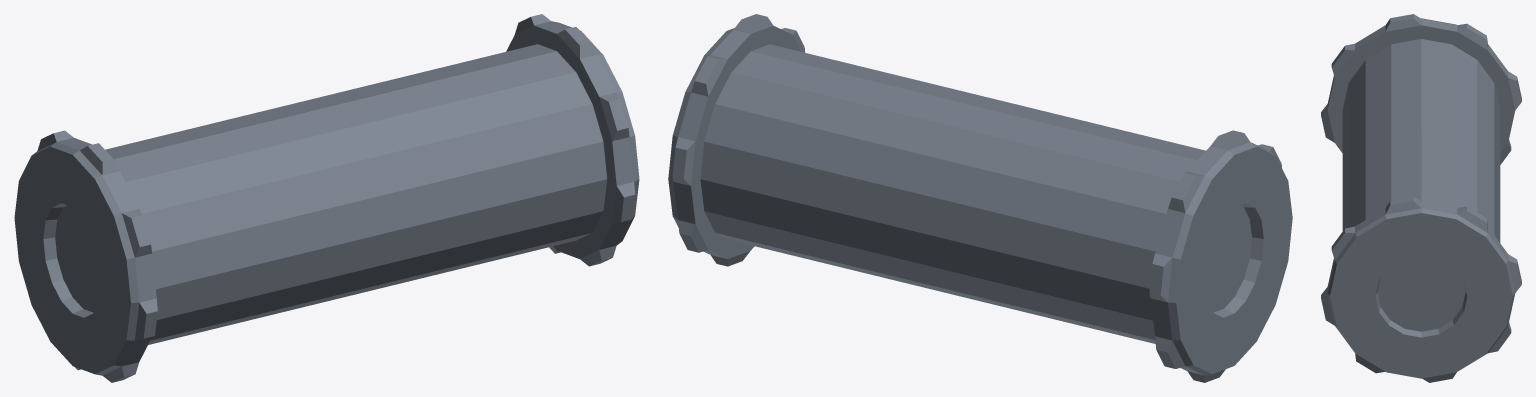
File: Cylinder_001_factory-conveyer.fbx
The picture shows the model from 3 angles, left to right: view 1: azimuth 30°, elevation 25°; view 2: azimuth 150°, elevation 25°; view 3: azimuth 270°, elevation 25°; orthographic projection. The views are drawn at different scales.
Visible parts, largest first — view 1: Cylinder.001.factory-conveyer; view 2: Cylinder.001.factory-conveyer; view 3: Cylinder.001.factory-conveyer.
Part boxes in pixels (x1=…): Cylinder.001.factory-conveyer: x1=14, y1=14, x2=639, y2=382; Cylinder.001.factory-conveyer: x1=668, y1=14, x2=1292, y2=382; Cylinder.001.factory-conveyer: x1=1321, y1=14, x2=1521, y2=382.
Bounding box in the file's own units: 0.9163 × 0.399 × 0.399.
